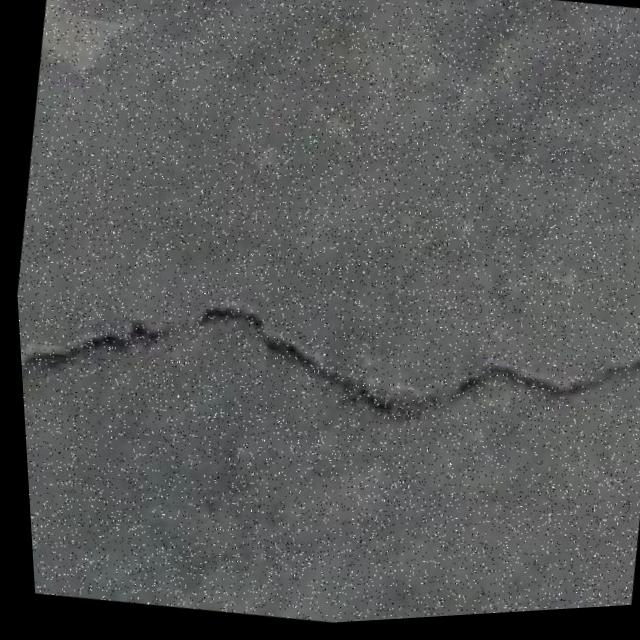Crack: (13, 242, 640, 510)
